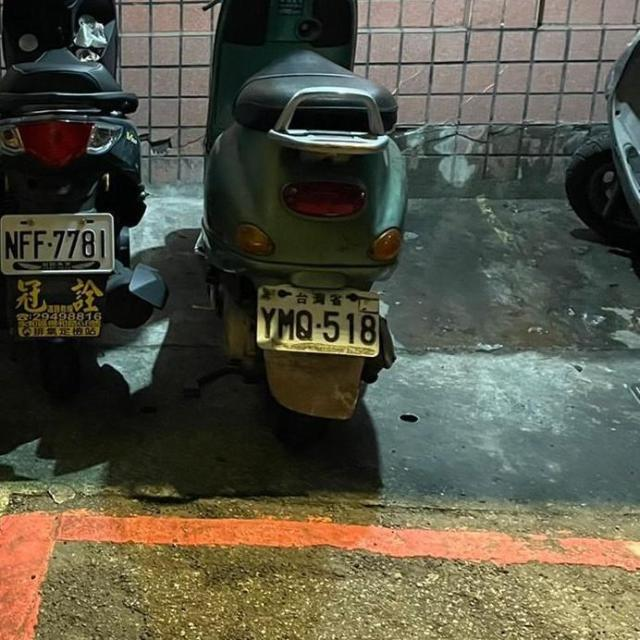W: (247, 276, 388, 362), (0, 205, 121, 284)
